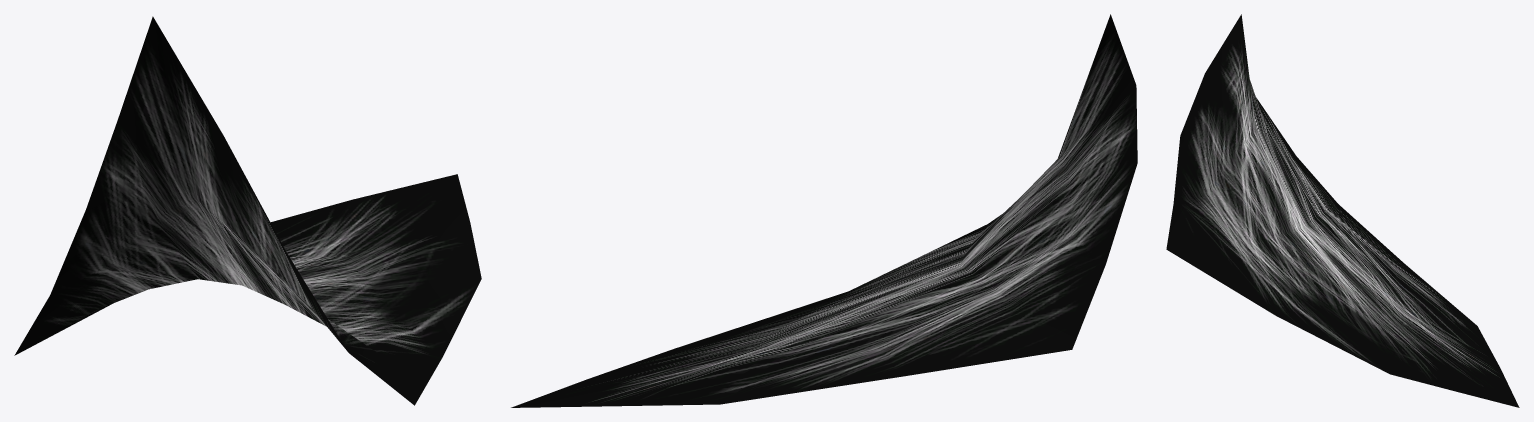
The model's file is SWORDLIGHT20_PS-AREA01_CORNERWEB21.fbx.
3 renders of one model, left to right at view 1: azimuth 30°, elevation 25°; view 2: azimuth 150°, elevation 25°; view 3: azimuth 270°, elevation 25°, orthographic. The views are drawn at different scales.
Parts seen in each view (by area): view 1: SWORDLIGHT20_PS-AREA01_CORNERWEB21; view 2: SWORDLIGHT20_PS-AREA01_CORNERWEB21; view 3: SWORDLIGHT20_PS-AREA01_CORNERWEB21.
Part boxes in pixels (left/top/right/bottom): SWORDLIGHT20_PS-AREA01_CORNERWEB21: left=14, top=16, right=481, bottom=405; SWORDLIGHT20_PS-AREA01_CORNERWEB21: left=511, top=14, right=1137, bottom=407; SWORDLIGHT20_PS-AREA01_CORNERWEB21: left=1166, top=14, right=1519, bottom=407.
Bounding box in the file's own units: 45467 × 34424 × 43762.
1 material, 1 textured.
